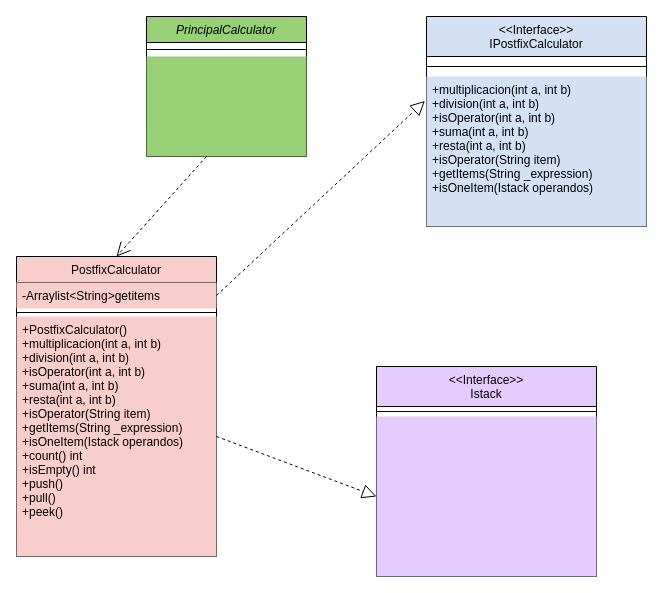
Image size: 663x593. Some labels were removed from this diagram. The shapes that lost their labels are listed below. From the top down, each one's box as (x1, y1, x2, y2) in pixels, then its label:
(146, 56, 306, 156): +main(String[] args)
(376, 416, 596, 576): +count() int +isEmpty() boolean +push() +pull() +peek()
